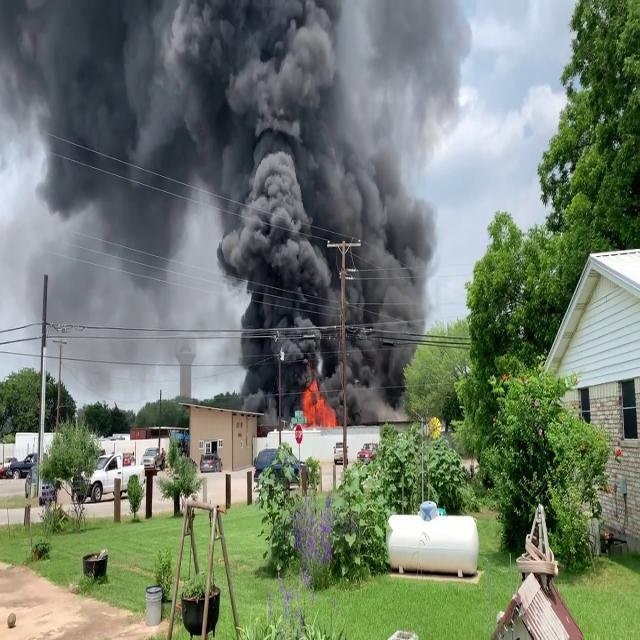Fire: (300, 376, 336, 426)
Smoke: (2, 0, 464, 409)
